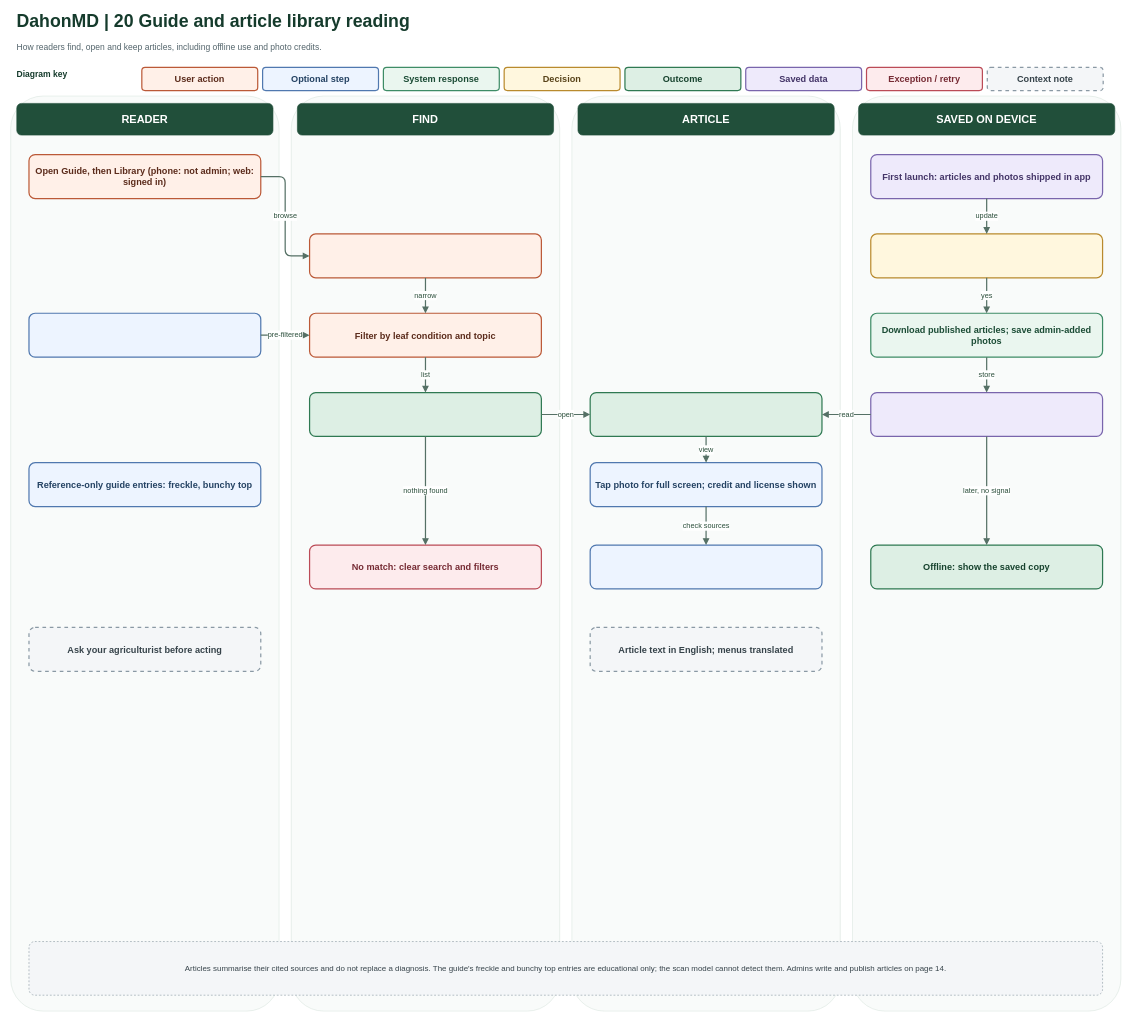
The diagram is 1132 pixels wide and 1022 high, and some of its shapes have lost their labels. The shapes that lost their labels are listed below. From the top down, each one's centre as x and y in pixels, then its label:
(425,255): Search titles, text, captions and authors
(986,255): Online? On open, and on reconnect at most hourly
(144,334): From a disease: 'Read articles about this'
(425,414): Matching articles; title matches first
(705,414): Summary, steps and placed photos
(986,414): Phone keeps text and photos; browser keeps text
(705,566): Numbered references; open source link online
